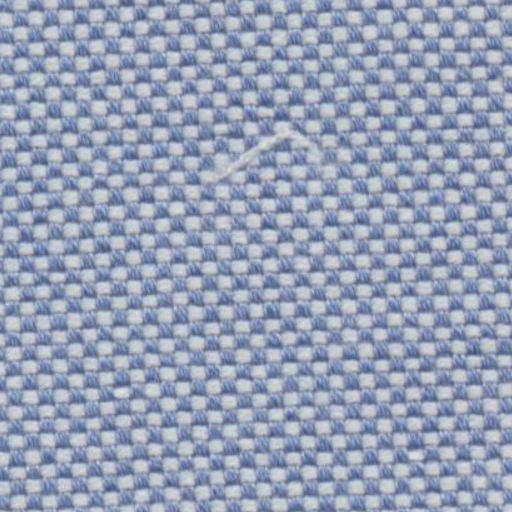DuanSha: (196, 118, 324, 195)
